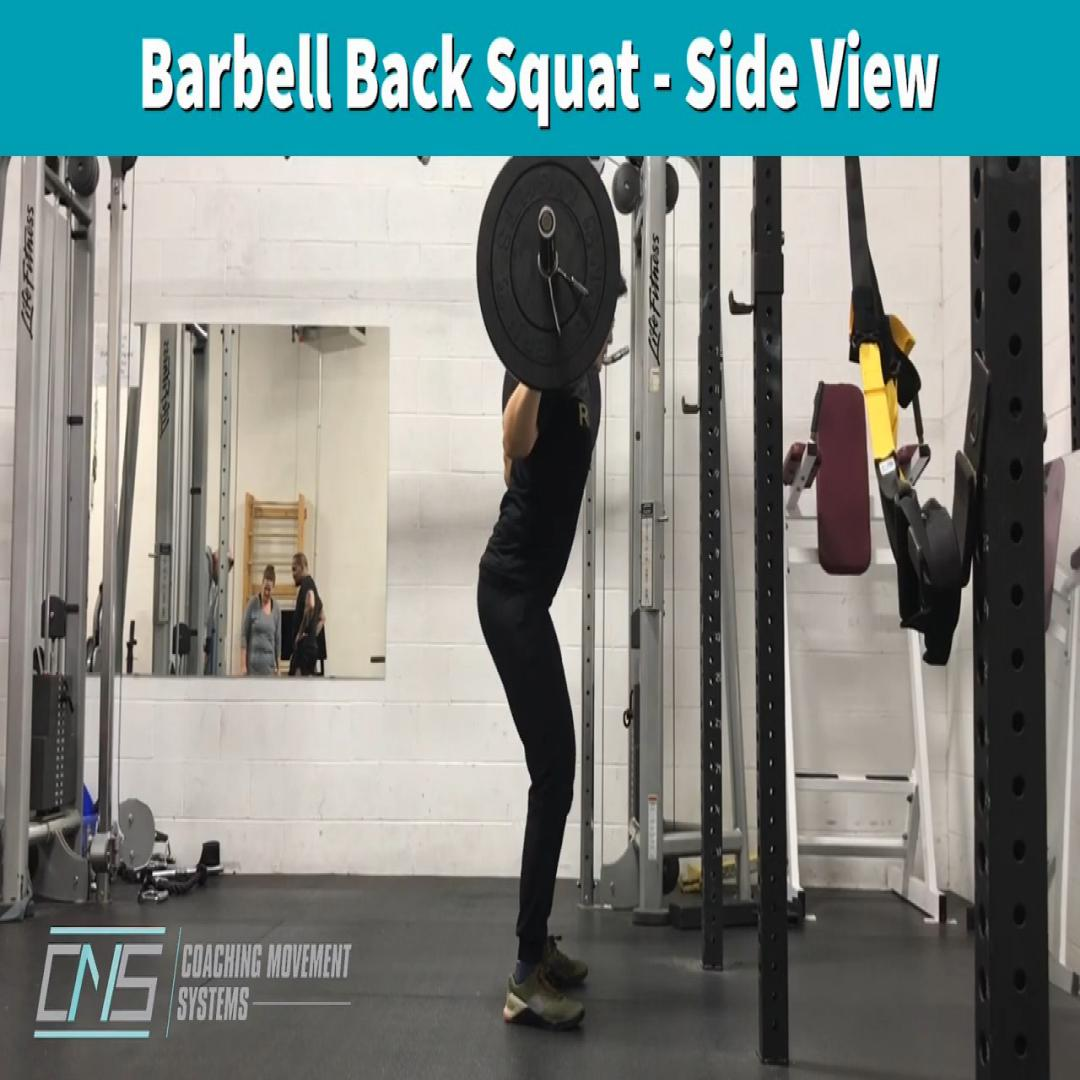Bar: (539, 207, 556, 237)
Barbell: (477, 153, 621, 390)
